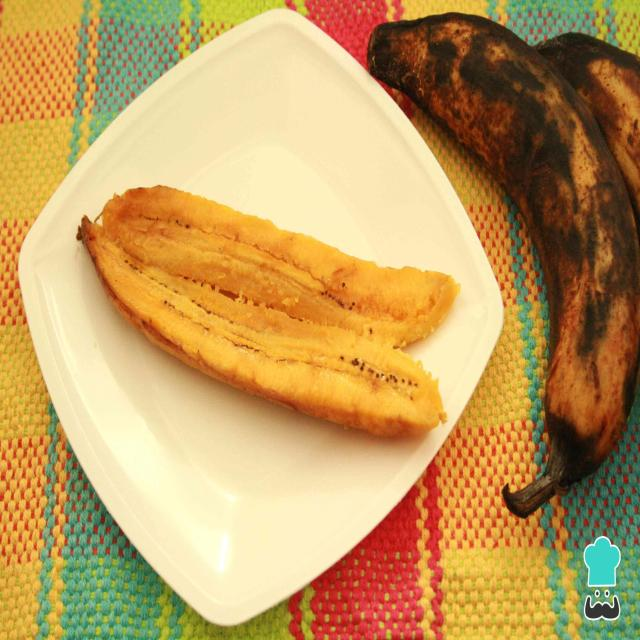platano: (361, 5, 640, 640), (61, 164, 451, 458)
